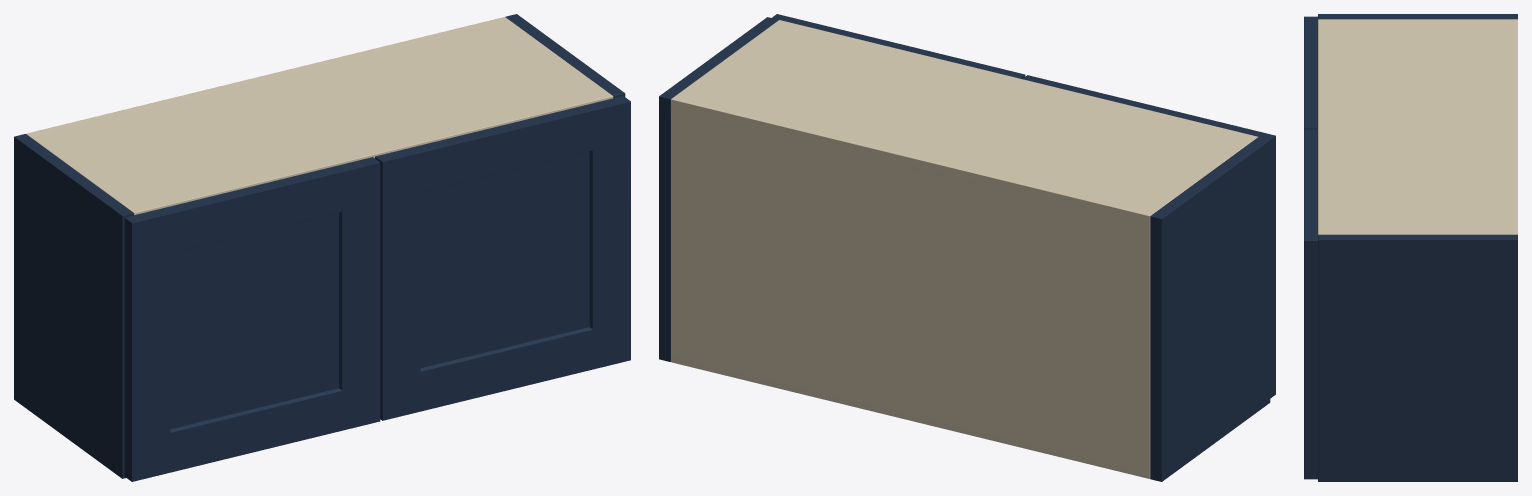
File: oppein-ply-bss-w3015.glb
3 renders of one model, left to right at view 1: azimuth 30°, elevation 25°; view 2: azimuth 150°, elevation 25°; view 3: azimuth 270°, elevation 25°, orthographic. The views are drawn at different scales.
Parts seen in each view (by area): view 1: Door, Door.001, Cabinet top, Cabinet side, Cabinet back, Cabinet side.001; view 2: Cabinet back, Cabinet top, Cabinet side, Cabinet bottom, Cabinet side.001, Door, Door.001; view 3: Cabinet side.001, Cabinet top, Door.001, Cabinet back, Door, Cabinet side.
Boxes of the visible parts, x1,y1,x2,y2 form: Door: (124,157,380,481); Door.001: (375,96,630,420); Cabinet top: (26,17,613,215); Cabinet side: (14,134,133,478); Cabinet back: (26,17,507,136); Cabinet side.001: (505,14,625,98); Cabinet back: (671,96,1153,478); Cabinet top: (671,20,1257,227); Cabinet side: (1150,137,1270,481); Cabinet bottom: (671,350,1149,478); Cabinet side.001: (659,17,778,361); Door: (1022,75,1275,398); Door.001: (772,14,1025,78); Cabinet side.001: (1318,234,1517,481); Cabinet top: (1318,19,1517,234); Door.001: (1304,129,1317,479); Cabinet back: (1510,19,1517,234); Door: (1304,16,1317,129); Cabinet side: (1318,14,1517,19).
Size of the model in its own units: 0.762 by 0.381 by 0.3048.
